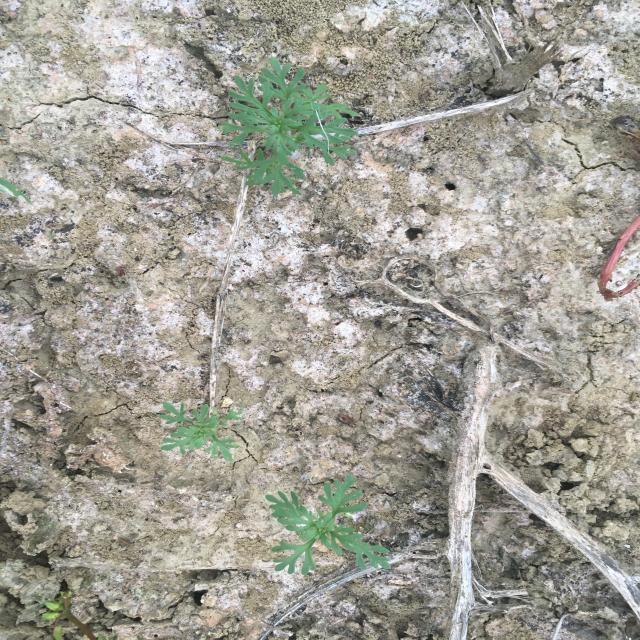Ragweed: (213, 54, 364, 199), (263, 473, 395, 577), (156, 399, 248, 463)
